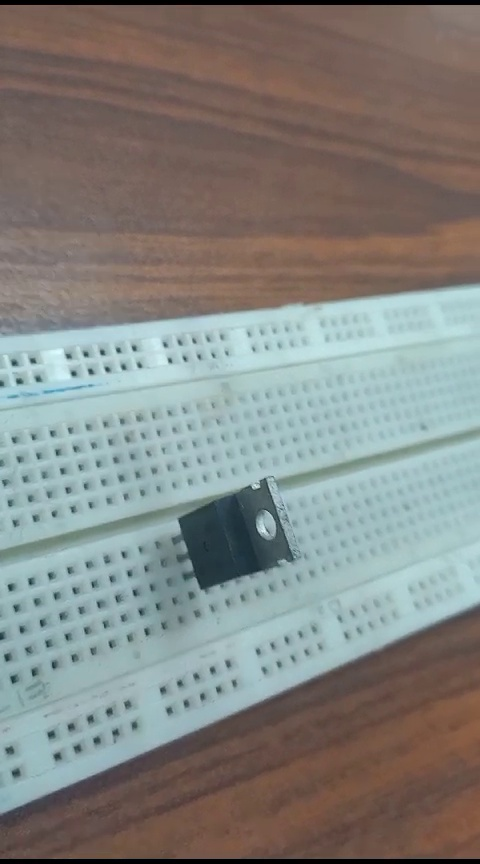voltage regulator: (150, 473, 302, 588)
